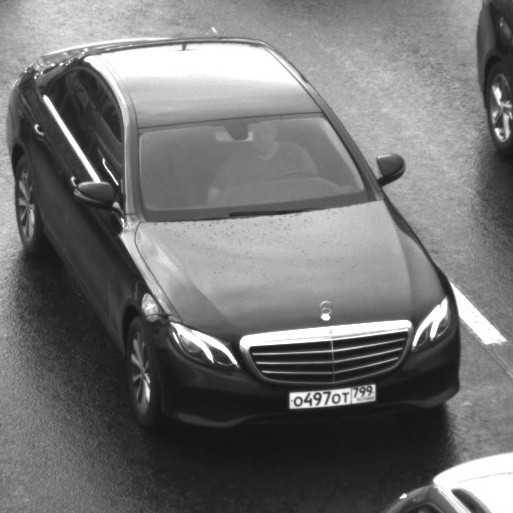plate: (276, 372, 387, 416)
